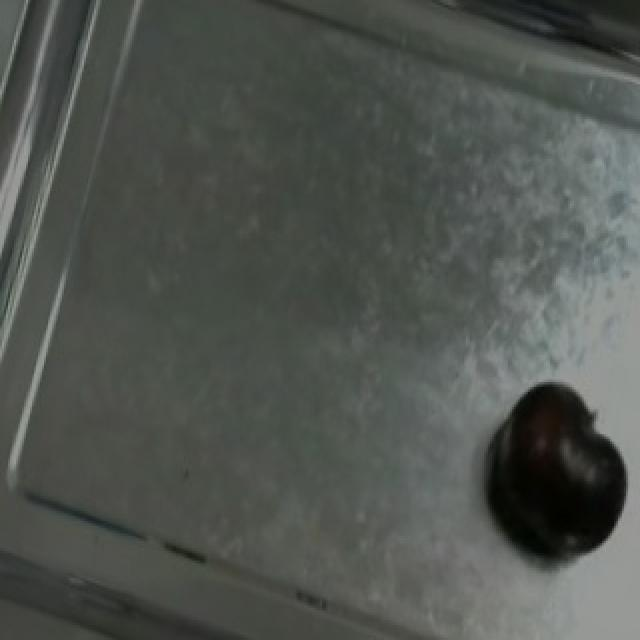Fruit: (476, 364, 638, 570)
